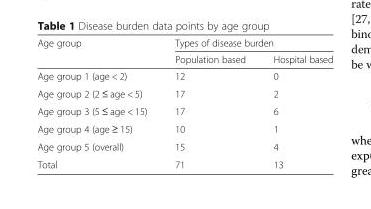table: (36, 36, 332, 169)
table column: (36, 36, 160, 169), (160, 36, 258, 169), (258, 36, 332, 169)
table column header: (36, 36, 332, 67)
table row: (36, 101, 332, 119), (36, 119, 332, 137), (36, 137, 332, 155), (36, 50, 332, 67), (36, 67, 332, 84), (36, 84, 332, 101), (36, 36, 332, 50), (36, 155, 332, 169)
table spanning cell: (36, 36, 160, 67), (160, 36, 332, 50)
